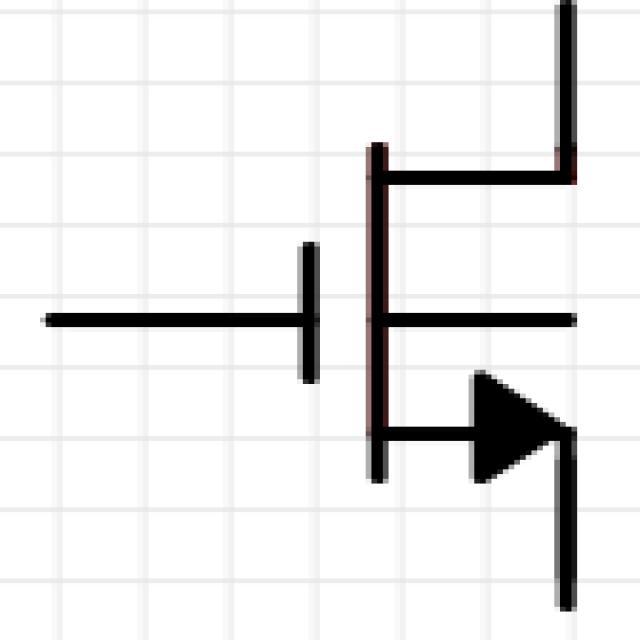pmos: (27, 60, 640, 635)
